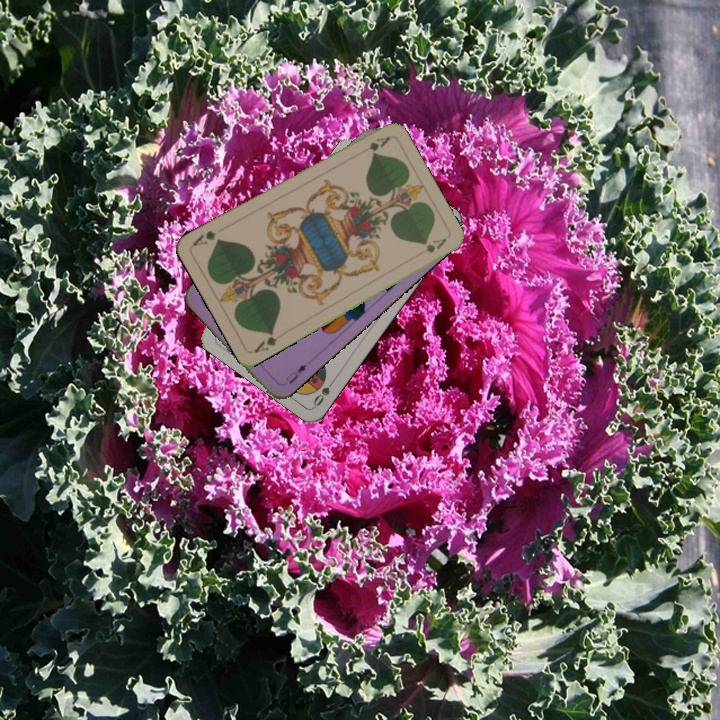EU: (282, 360, 309, 387)
GA: (250, 328, 280, 356), (359, 132, 393, 154)
SO: (309, 374, 339, 409)
